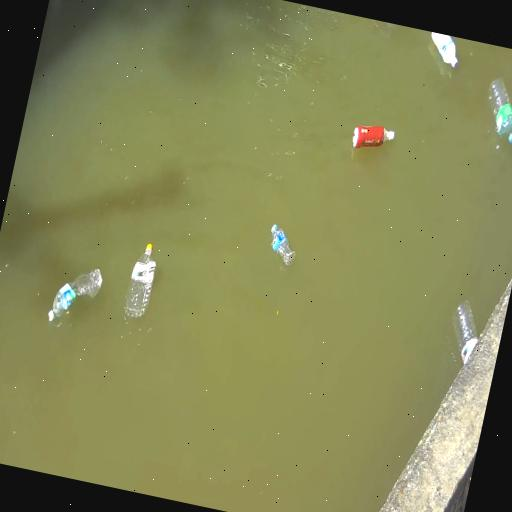plastic: (49, 270, 102, 321), (125, 244, 156, 317), (453, 301, 477, 364), (489, 78, 511, 142), (352, 125, 395, 148), (271, 224, 295, 265), (431, 32, 457, 67)
